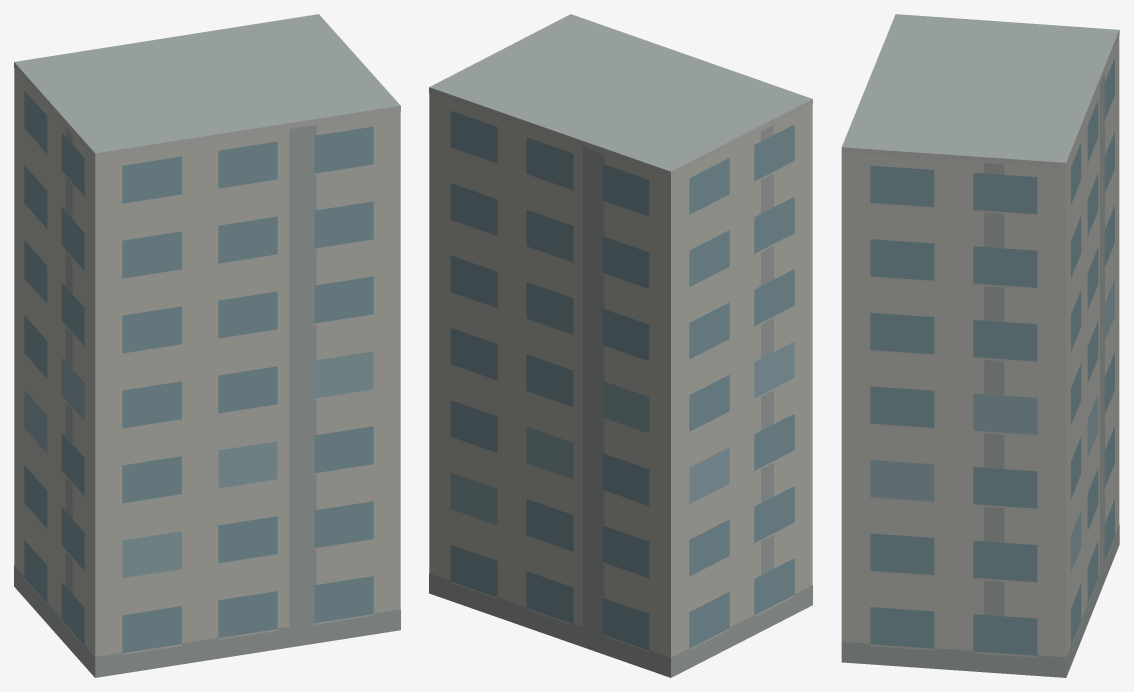
Rendered from survey-upis-33039765.glb.
3 renders of one model, left to right at view 1: azimuth 30°, elevation 25°; view 2: azimuth 150°, elevation 25°; view 3: azimuth 270°, elevation 25°, orthographic. The views are drawn at different scales.
Parts seen in each view (by area): view 1: survey-upis-33039765.tmp; view 2: survey-upis-33039765.tmp; view 3: survey-upis-33039765.tmp.
Part boxes in pixels (x1,y1,x2,y2): survey-upis-33039765.tmp: (14, 14, 400, 677); survey-upis-33039765.tmp: (429, 14, 812, 677); survey-upis-33039765.tmp: (841, 14, 1119, 677).
Bounding box in the file's own units: 13.24 × 21.35 × 10.45.
